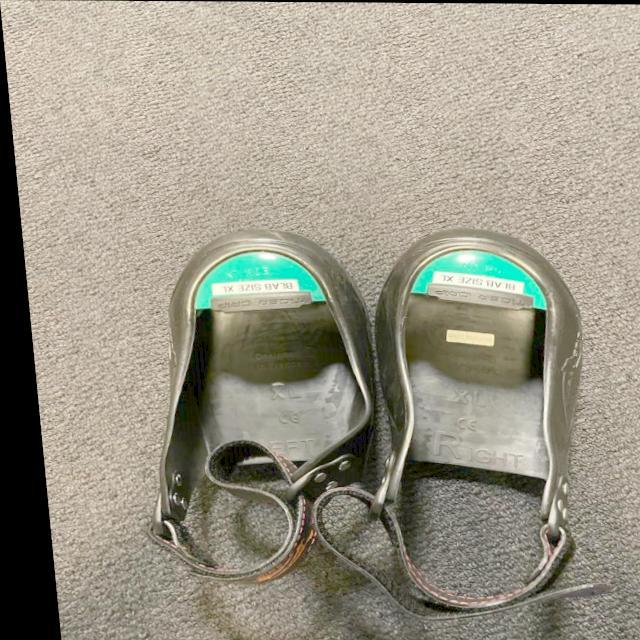shoes: (142, 220, 390, 592), (382, 222, 584, 606)
